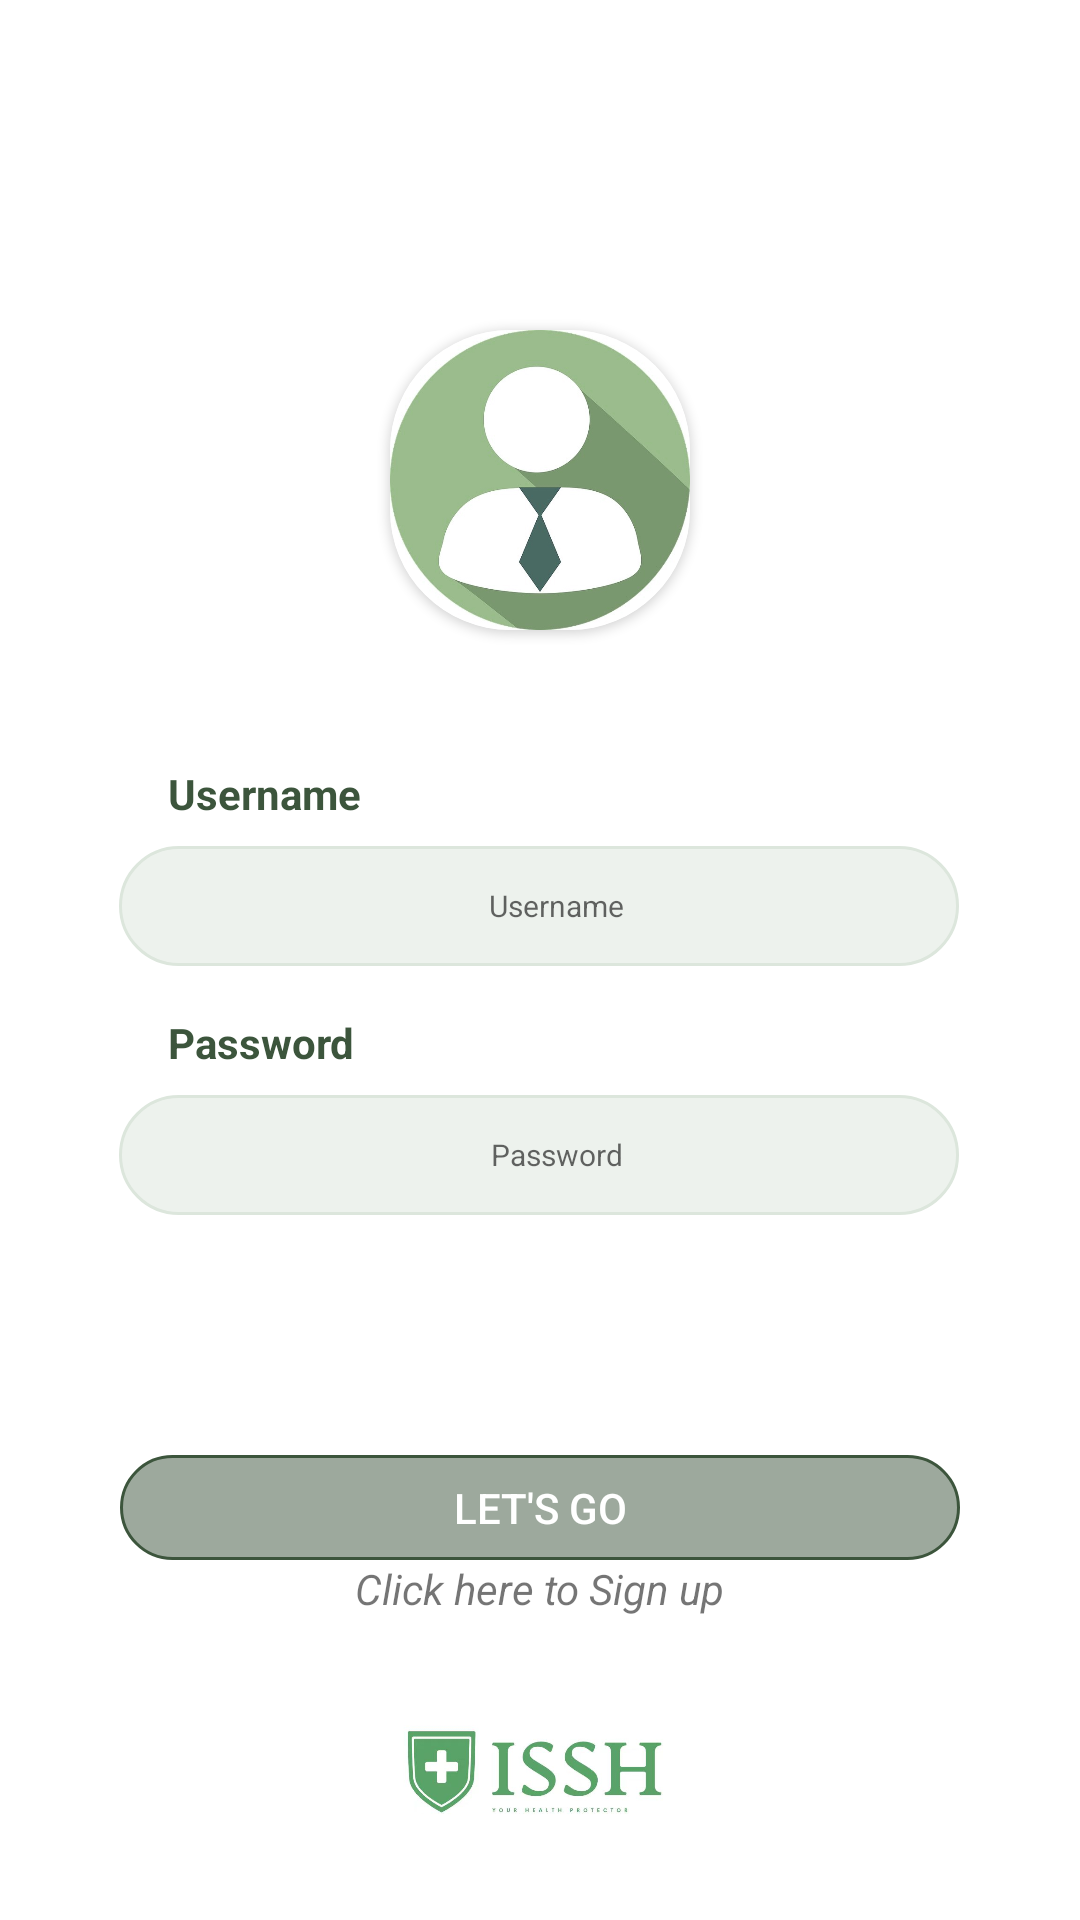

Where to tap for icons on this 1080w x 1920h app screen, as [x,y]:
patiet: [540,480]
